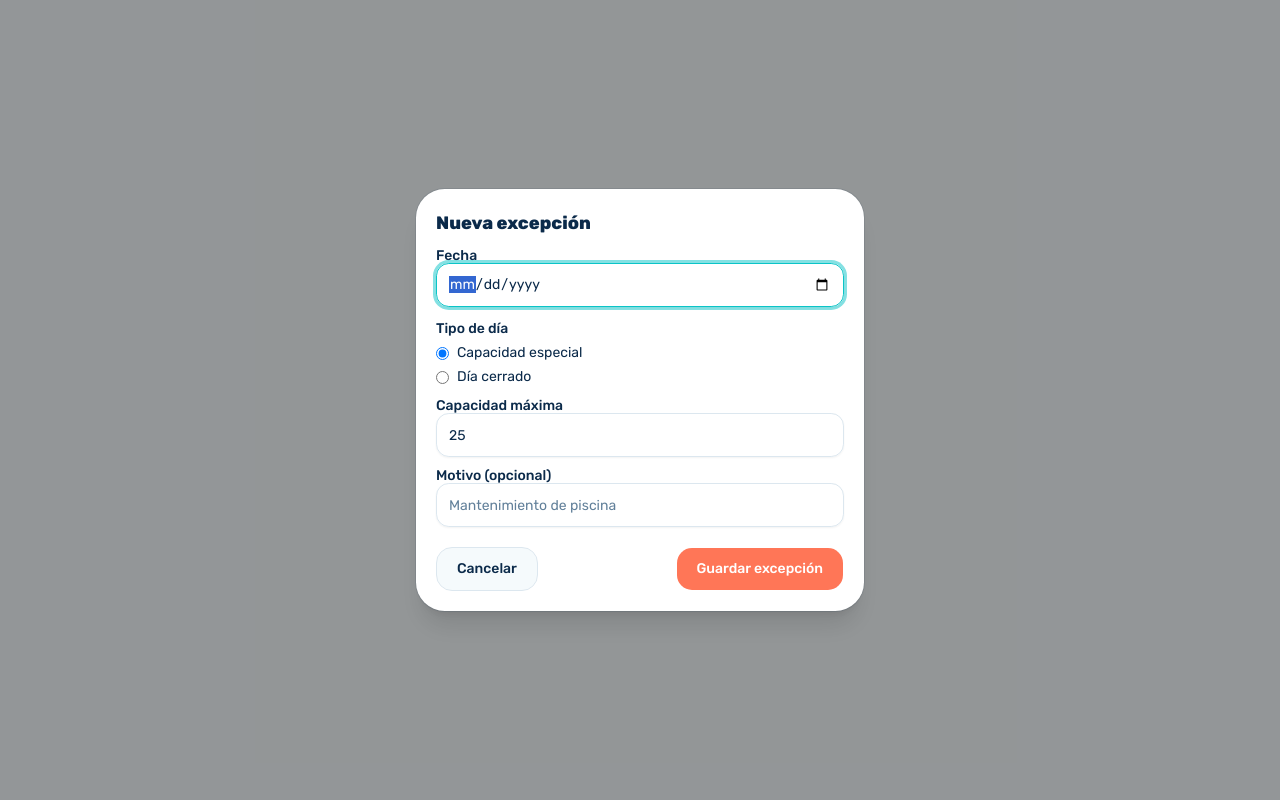
ExceptionDialog › hides capacity field when "Día cerrado" is selected
Expected: the number field labelled "Capacidad máxima" is shown, [436, 413, 844, 457]
Click the radio button labelled "Día cerrado".
click(442, 377)  # box [436, 370, 449, 384]
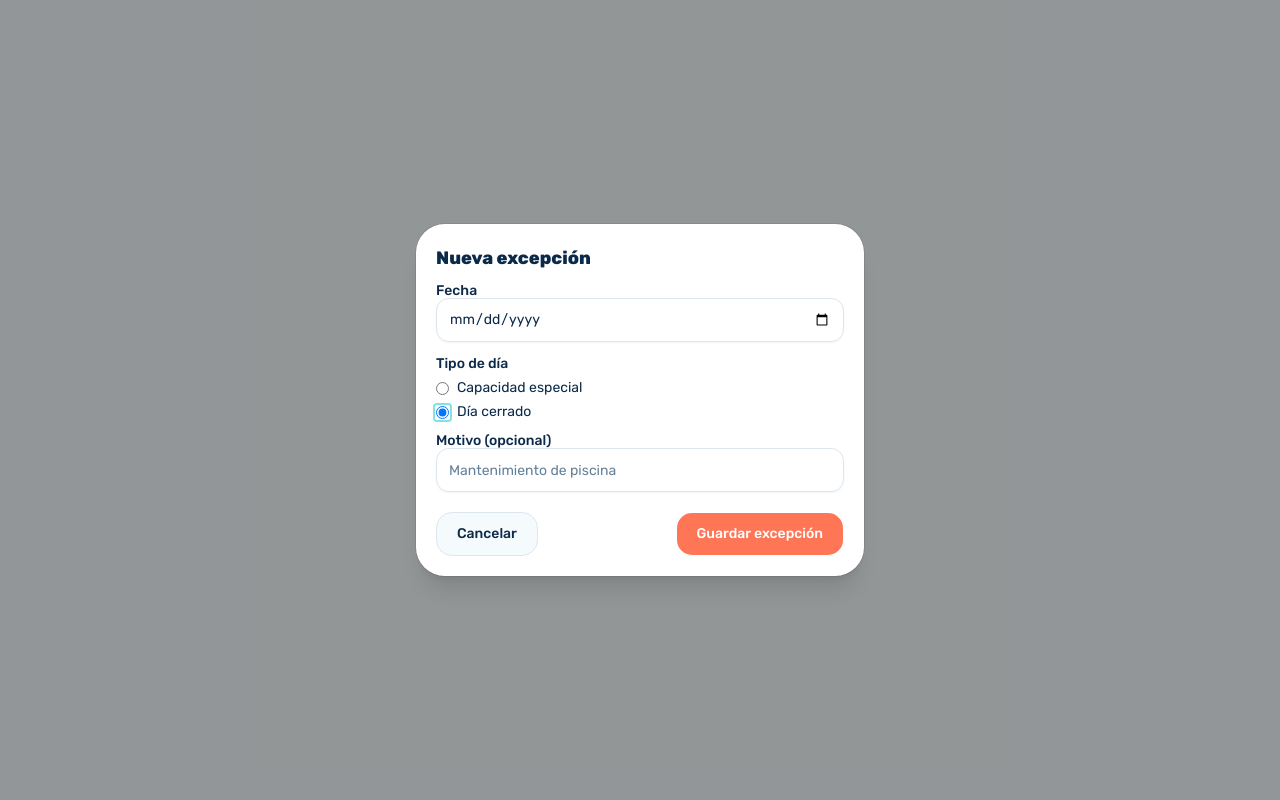
Now the label labelled "Capacidad máxima" is gone
